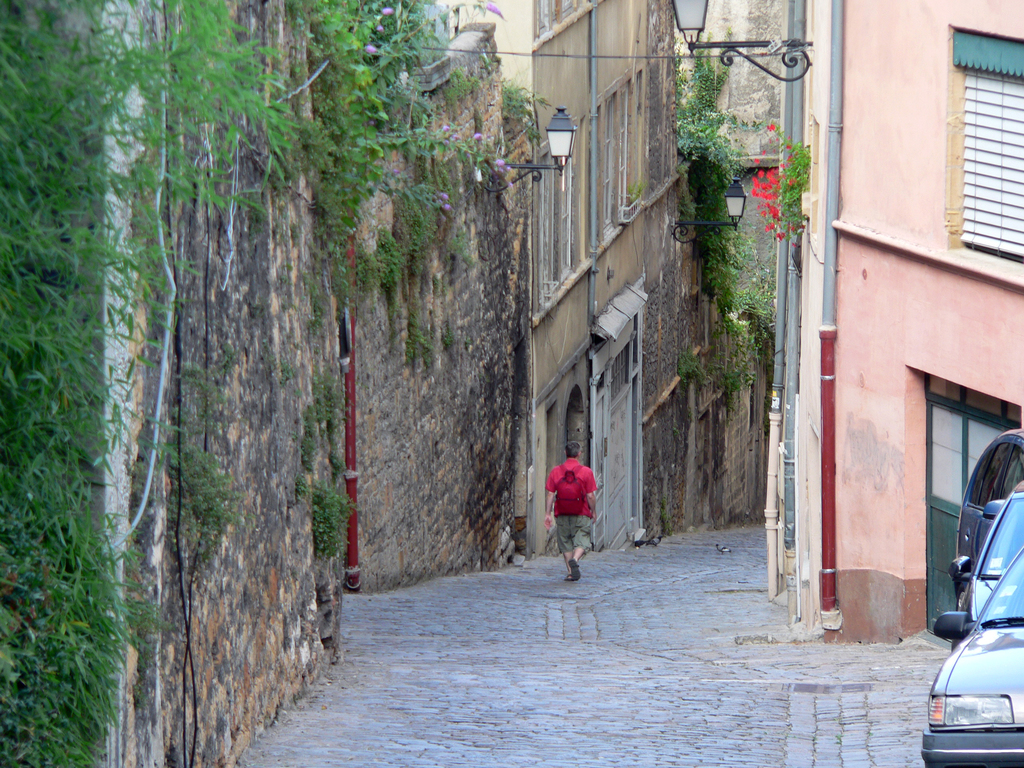door: (606, 354, 635, 516)
